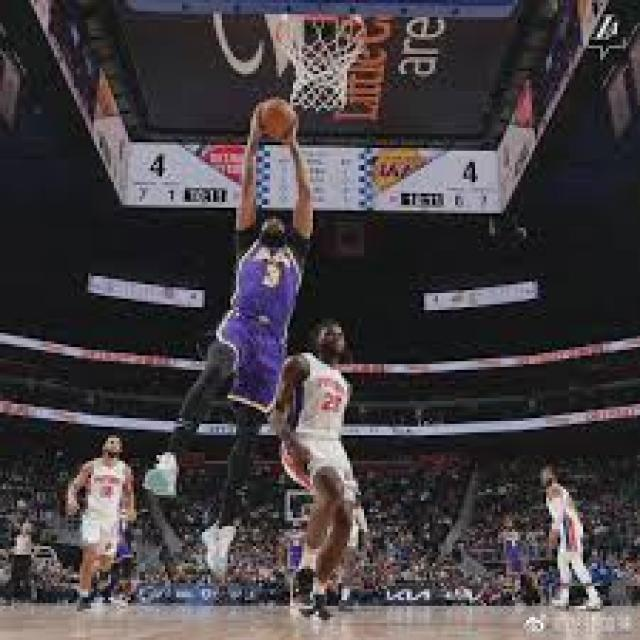rim: (253, 96, 296, 142)
